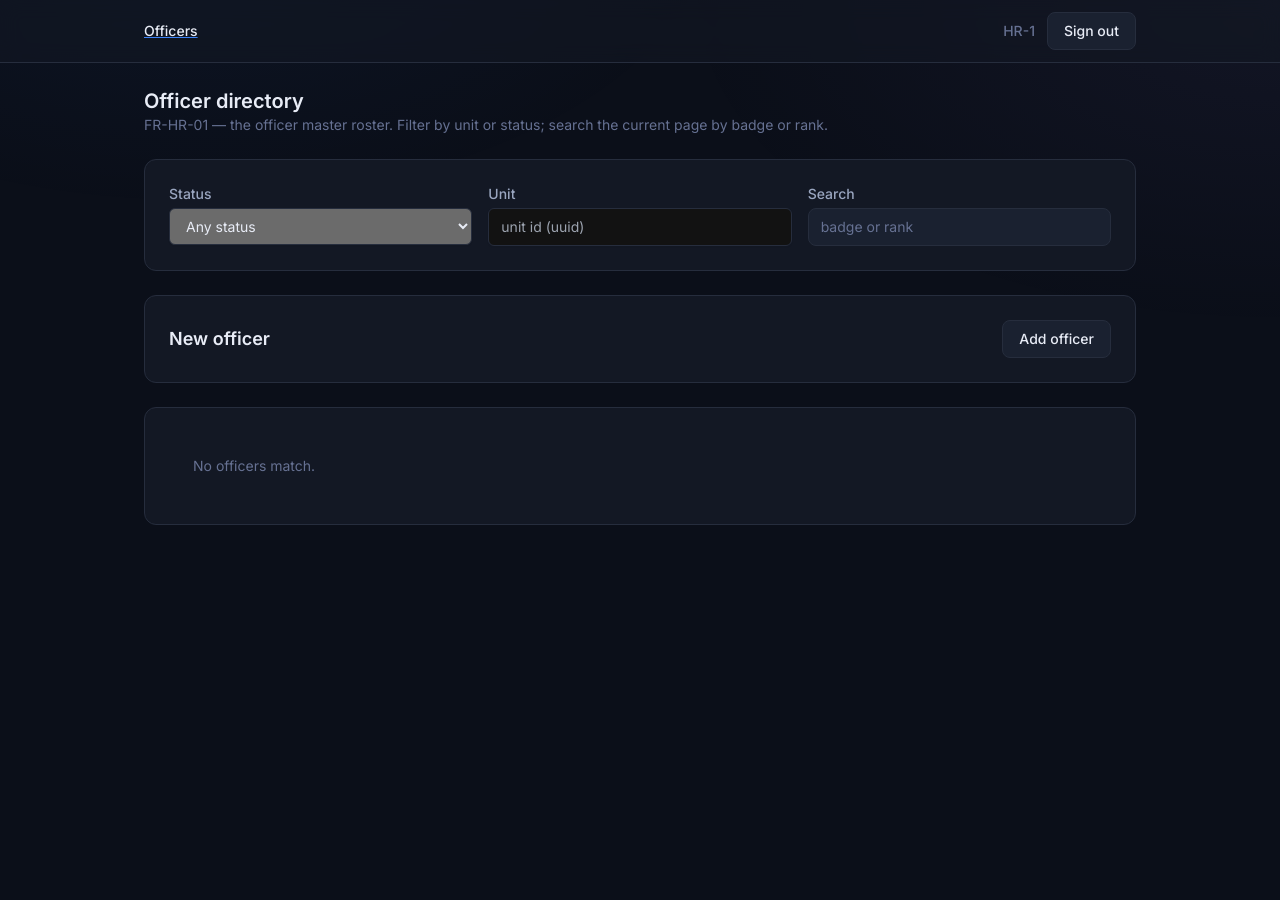
Scenario: OfficerDirectoryPage › surfaces 422 field errors on create
Expected: the text "No officers match." is shown, [193,457,315,474]
Click the button "Add officer": (1057, 339) [1002,320,1111,358]
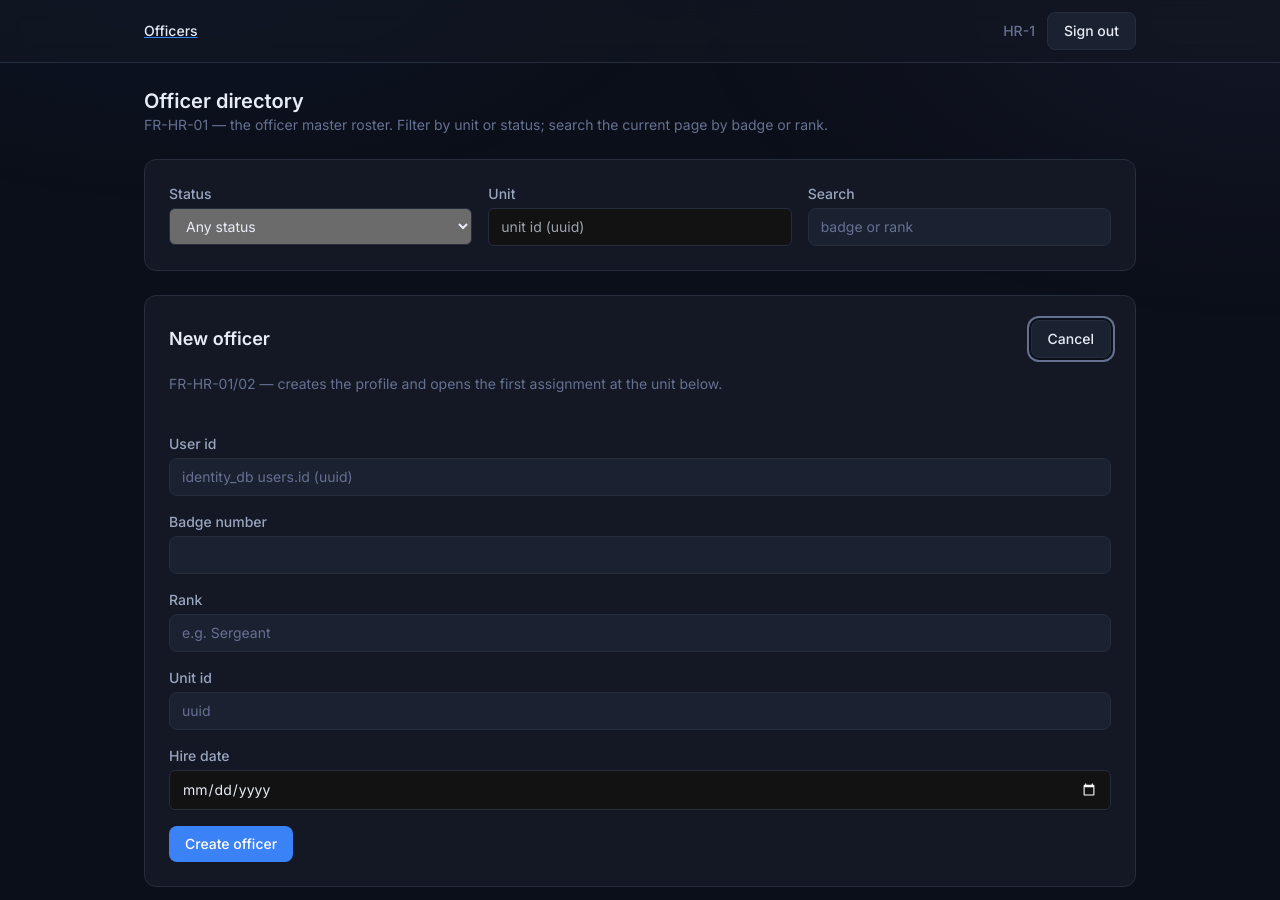
In the field labelled "User id": (640, 477) [169,458,1111,496], type "u-9"
In the field labelled "Badge number": (640, 555) [169,536,1111,574], type "OFF-1"
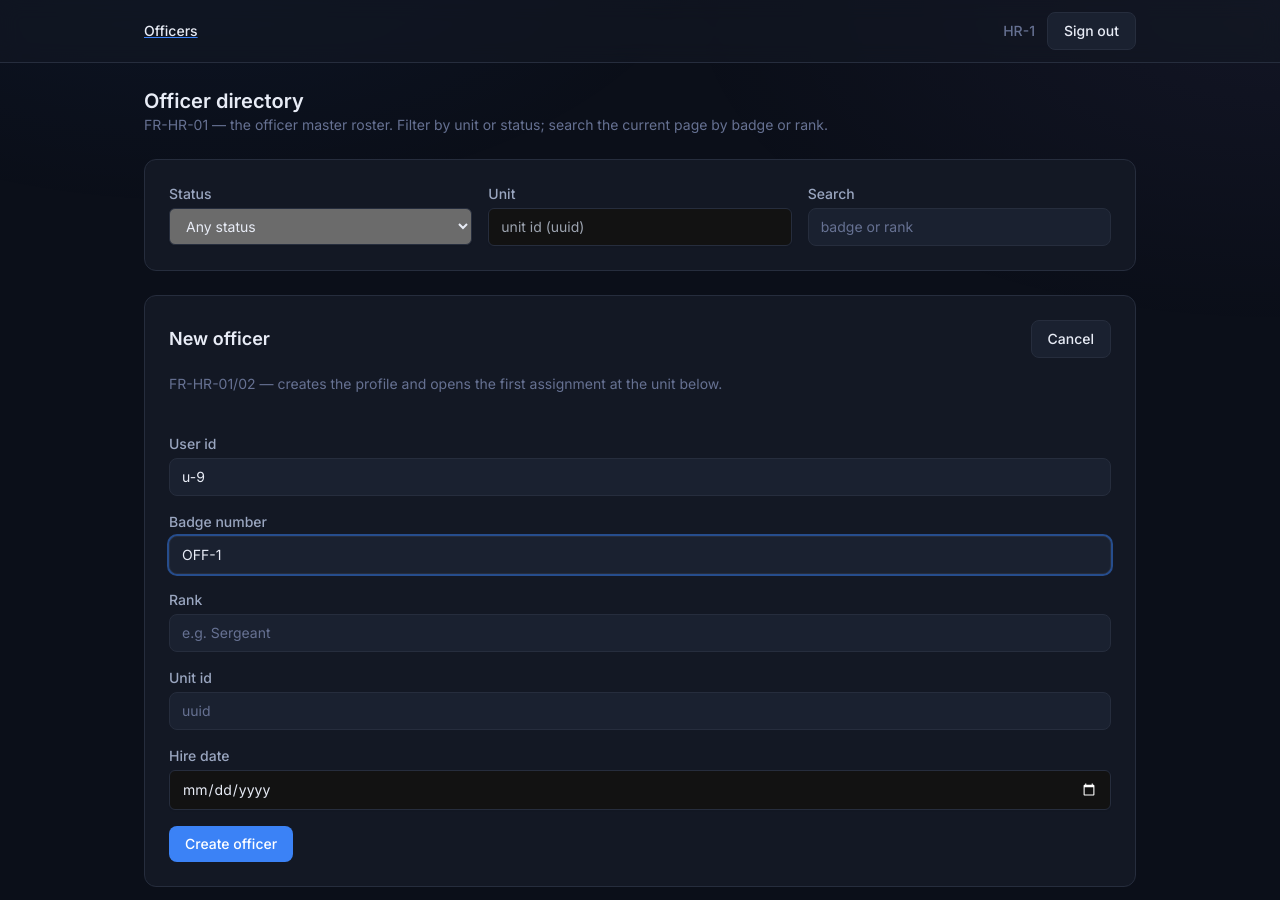
In the field labelled "Rank": (640, 633) [169,614,1111,652], type "Constable"
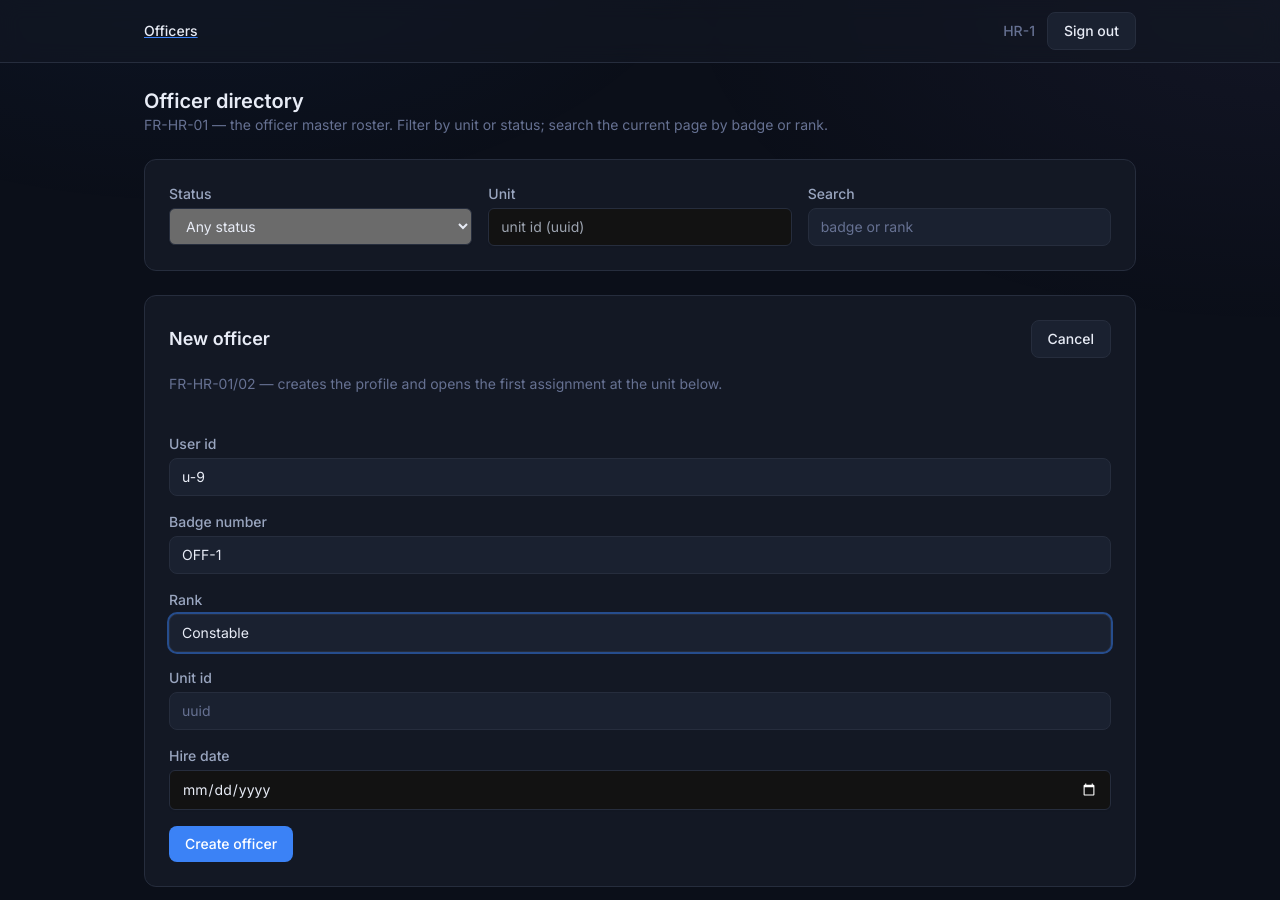
In the field labelled "Unit id": (640, 711) [169,692,1111,730], type "unit-9"
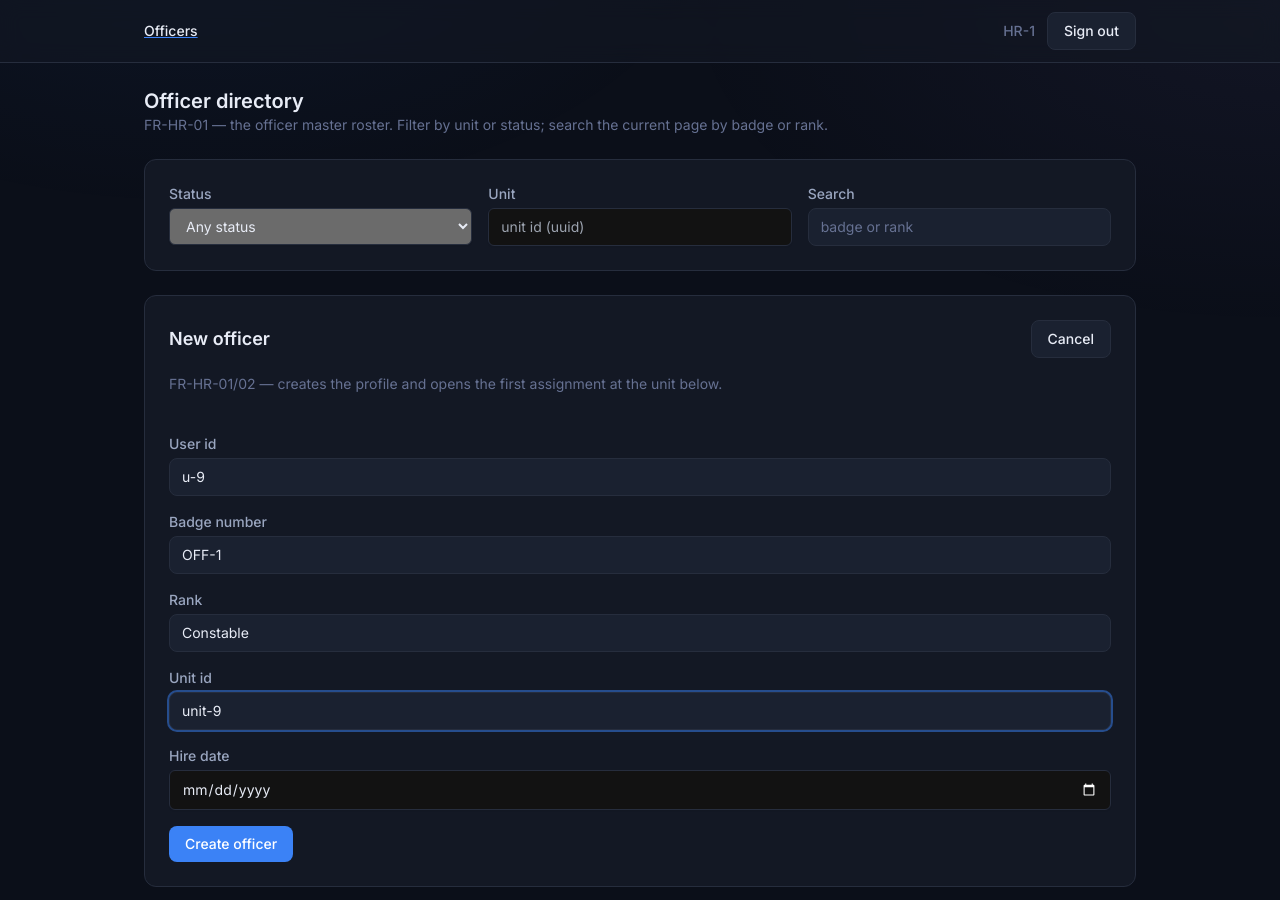
In the date field labelled "Hire date": (640, 790) [169,770,1111,810], type "2026-01-02"
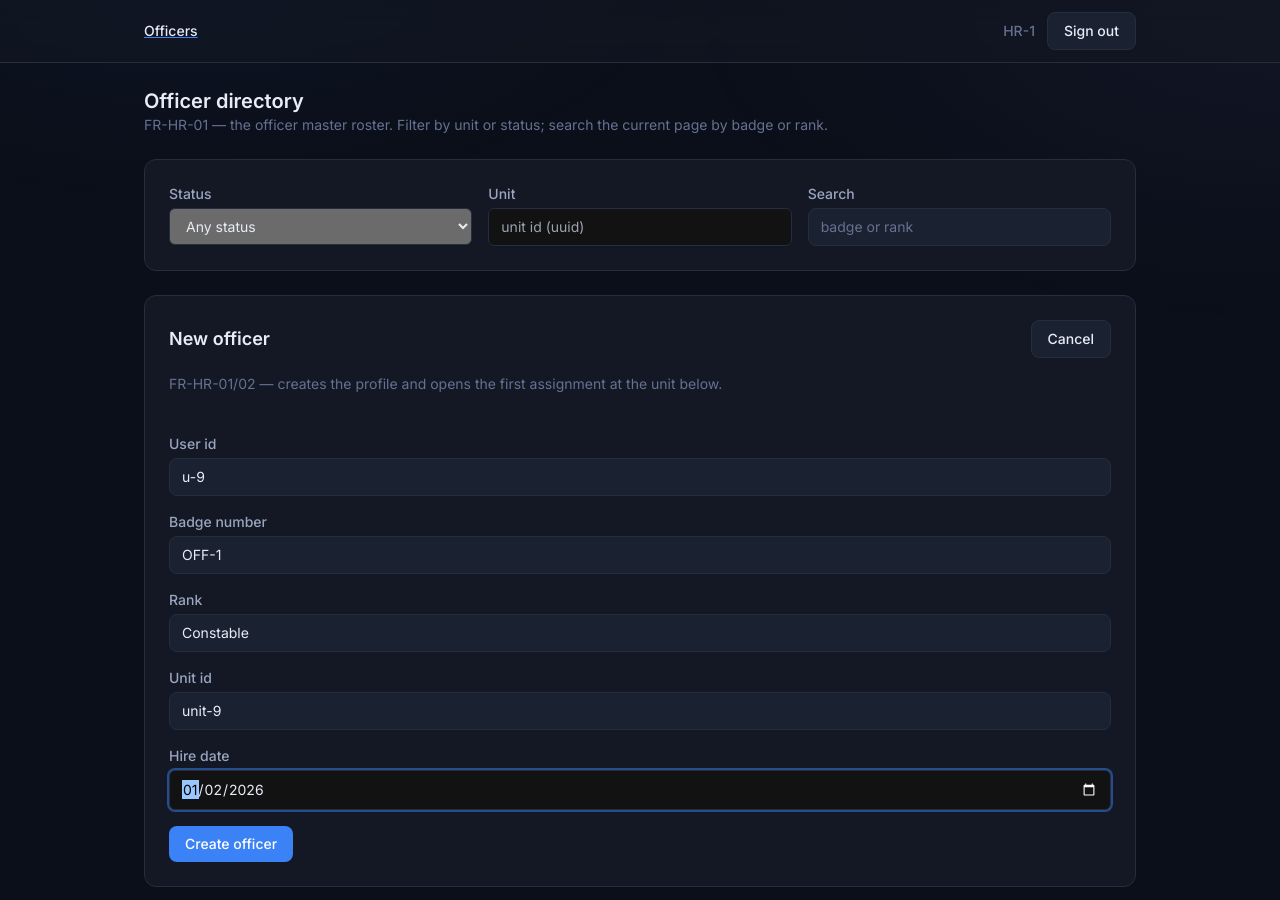
Click the button "Create officer": (231, 844) [169,826,293,862]
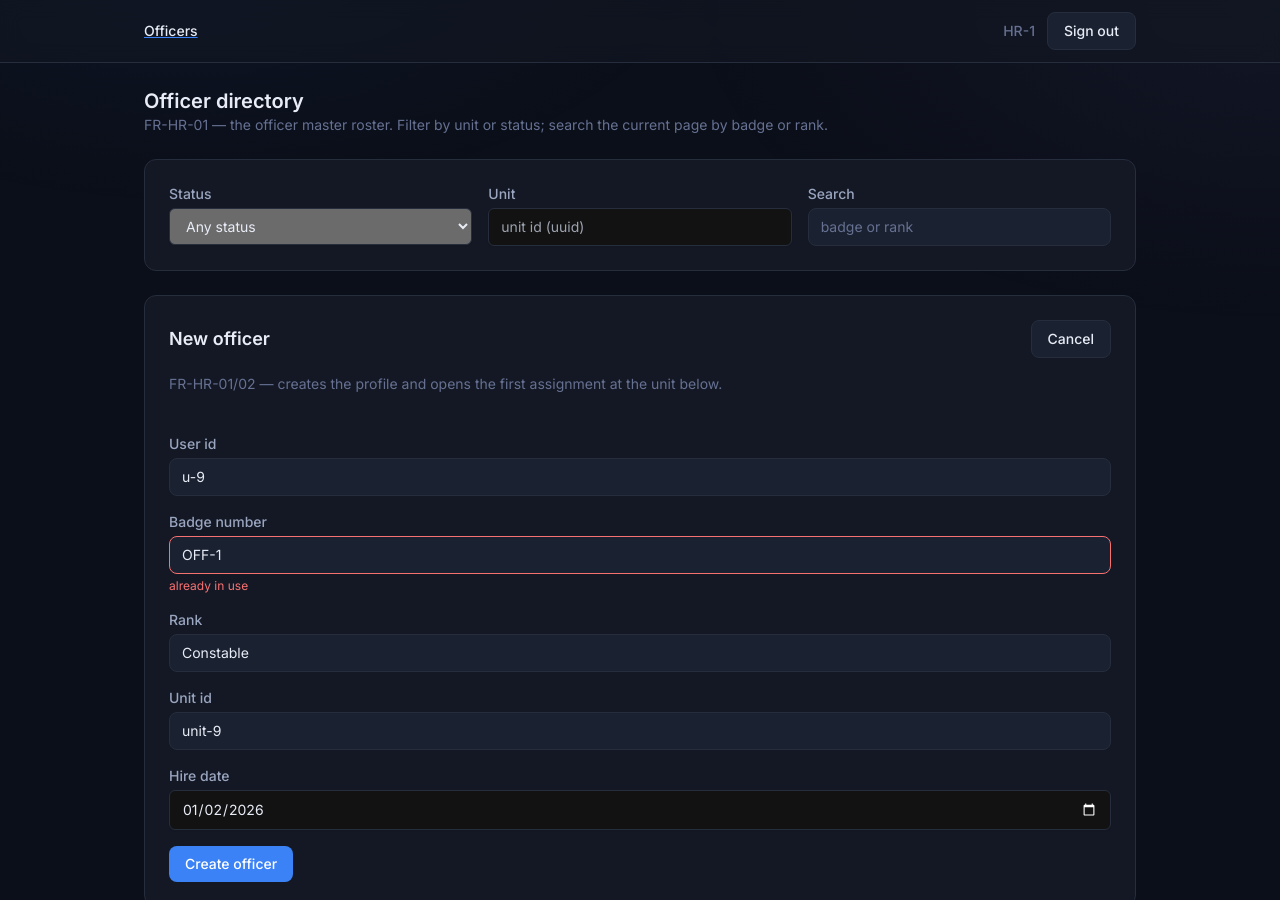
Expected: the text "already in use" is shown, [169,578,248,593]
